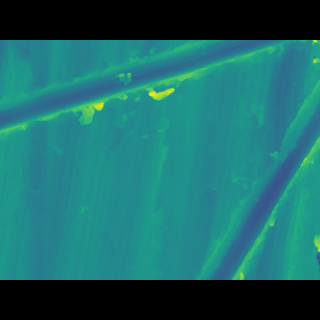Loch: (0, 66, 296, 140), (190, 99, 320, 252)
